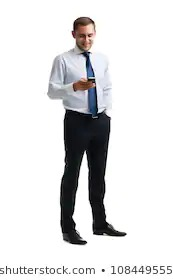F_belt: (64, 108, 110, 122)
F_dress pants: (58, 108, 110, 230)
F_shirt: (46, 47, 116, 117)
F_tie: (83, 50, 100, 116)
